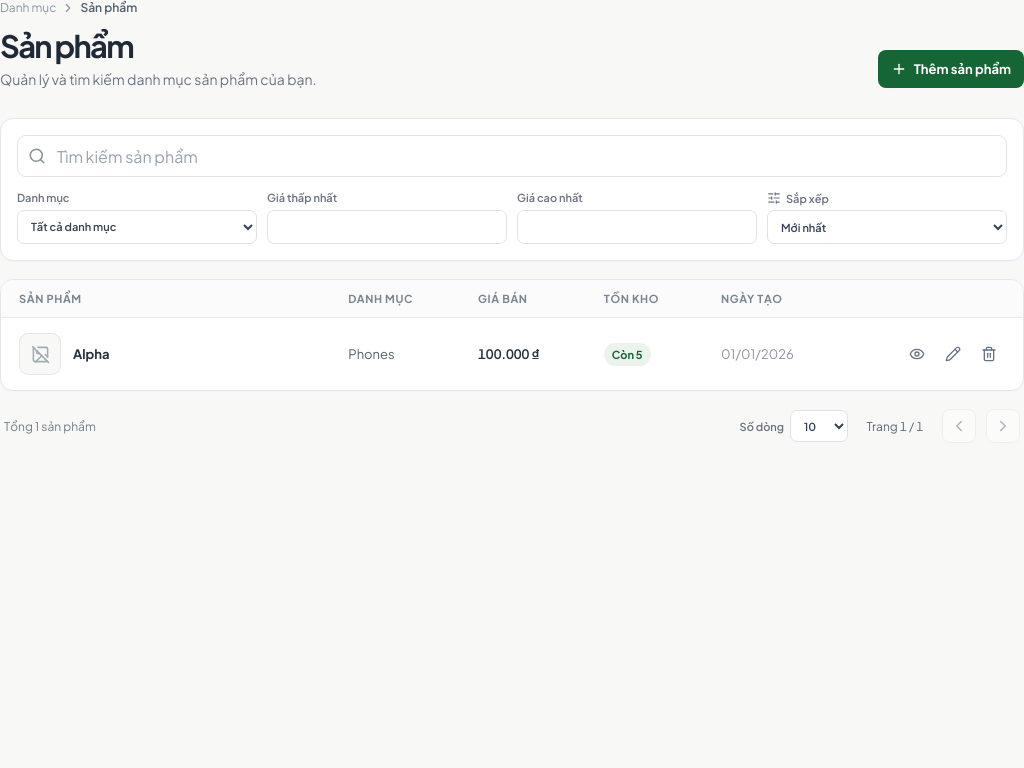
Scenario: ProductsPage › disables the confirm button while the delete is pending so it cannot be sent twice
The image size is (1024, 768).
Check: the text "Alpha" is shown, box [73, 346, 110, 362]
Click the button named "Xóa Alpha" at [989, 354], box [973, 338, 1005, 370]
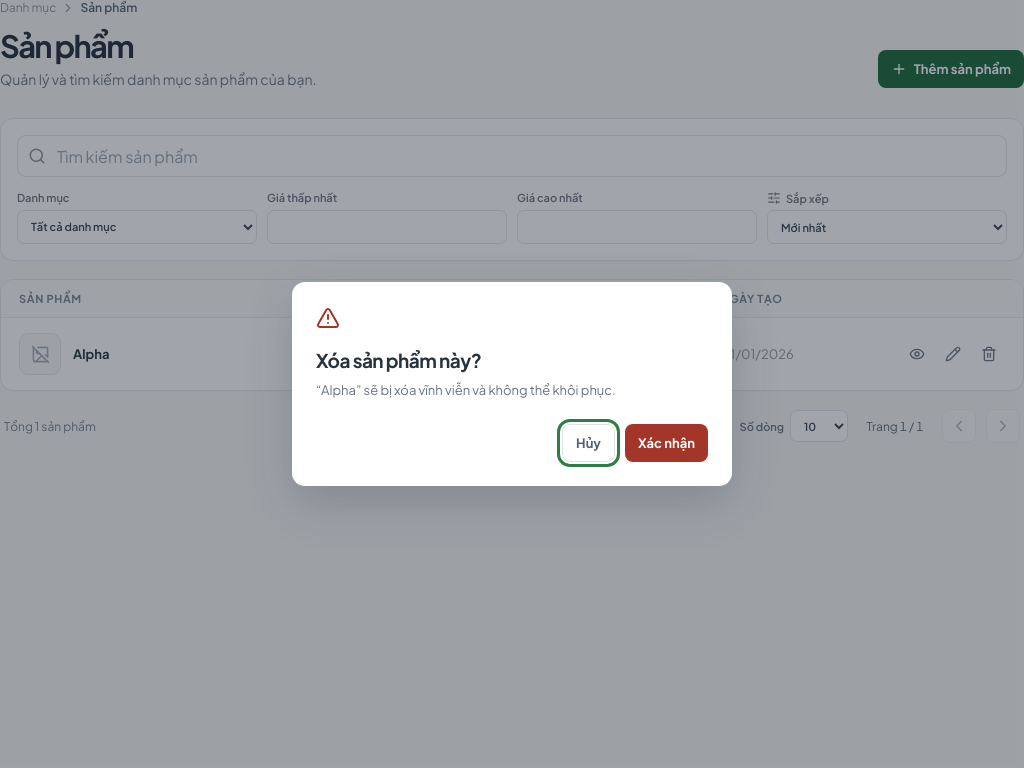
Click the button "Xác nhận" at [666, 443], box [625, 424, 708, 462]
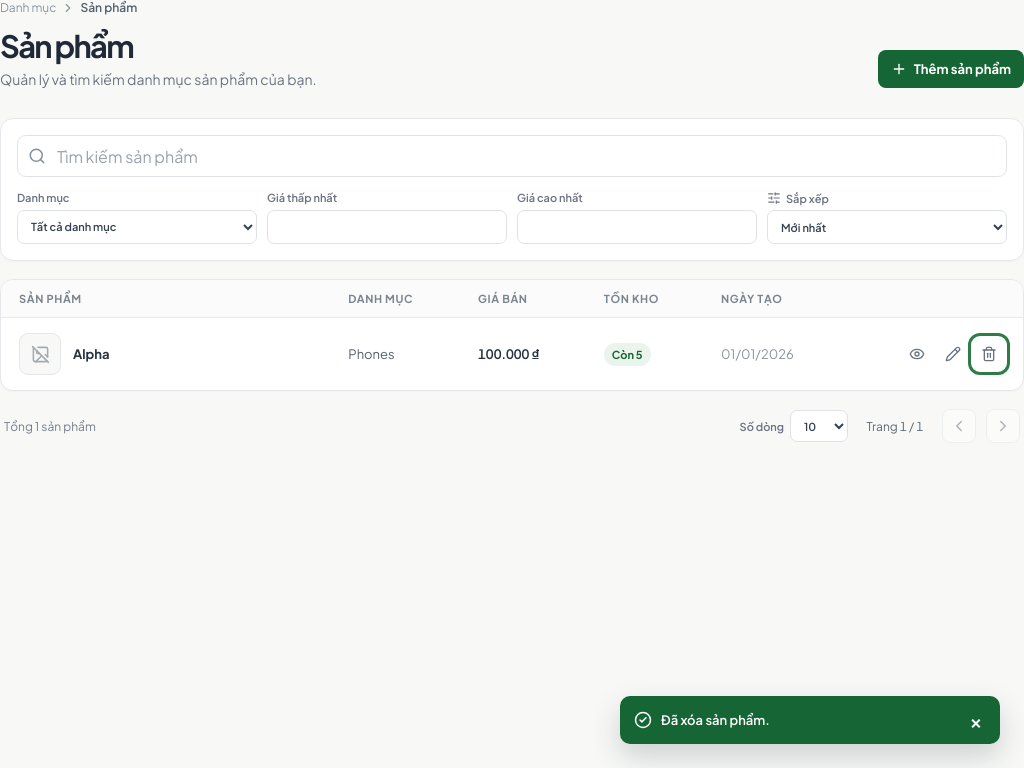
Check: the dialog is gone
